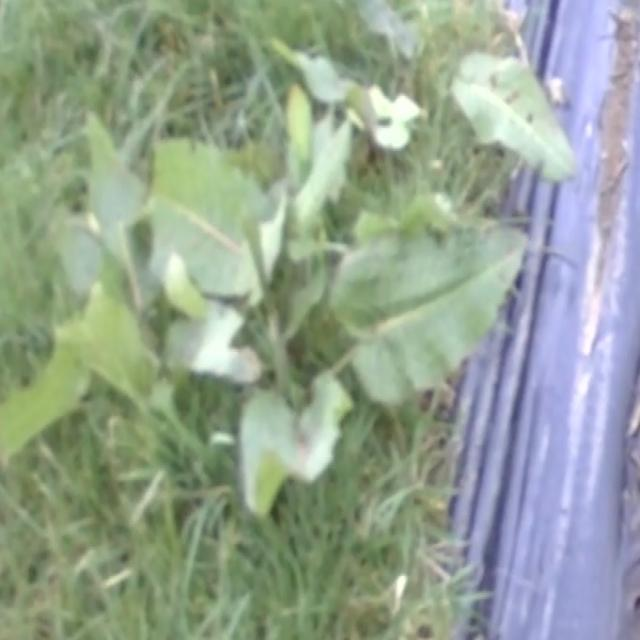organic waste: (39, 111, 492, 518), (283, 0, 606, 215)
